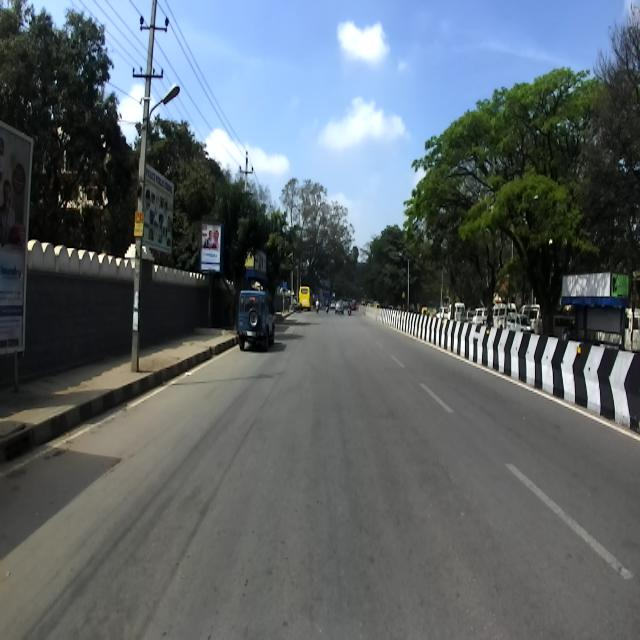car ahead at: (234, 284, 280, 366)
electric pole ahead at: (122, 0, 178, 383)
